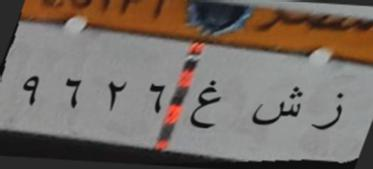2: (104, 74, 130, 123)
6: (144, 78, 168, 119), (60, 75, 84, 114)
9: (18, 70, 43, 115)
ghayn: (187, 75, 223, 144)
sheen: (248, 78, 303, 138)
zay: (308, 86, 348, 140)
